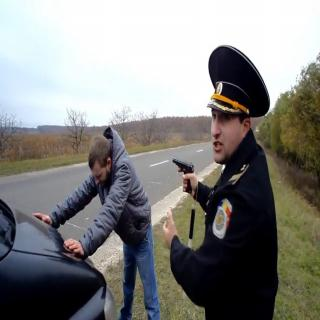gun: (170, 149, 198, 203)
